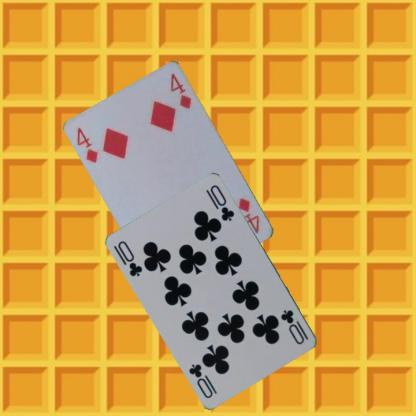10c: (112, 238, 145, 278), (278, 307, 310, 346)
4d: (74, 124, 100, 164), (236, 195, 261, 235)
